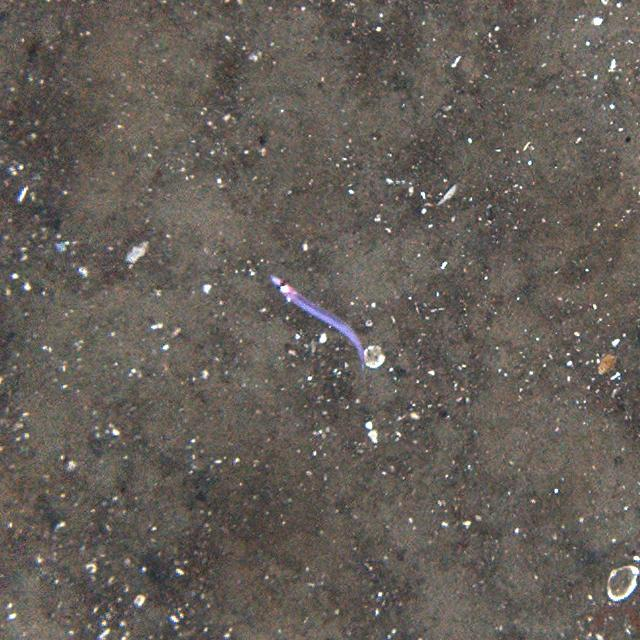roundfish: (267, 271, 372, 378)
